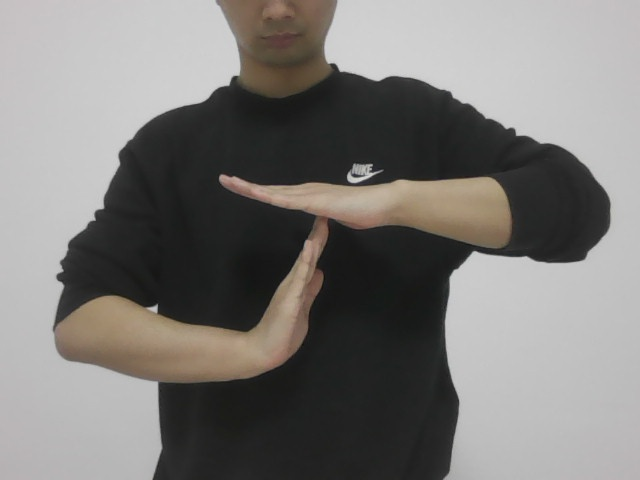stop: (201, 156, 410, 386)
